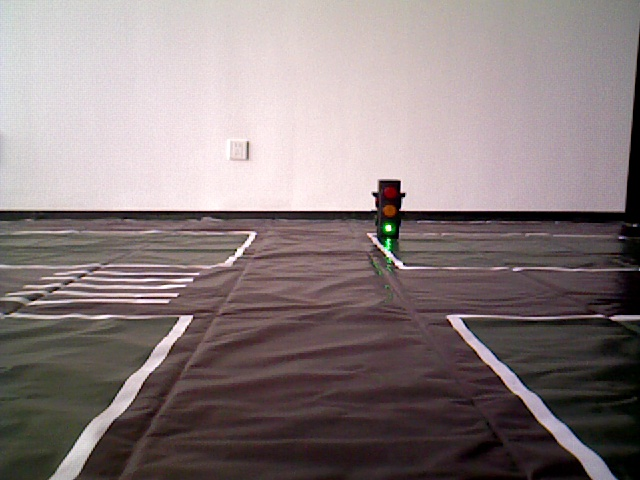green: (376, 181, 398, 235)
